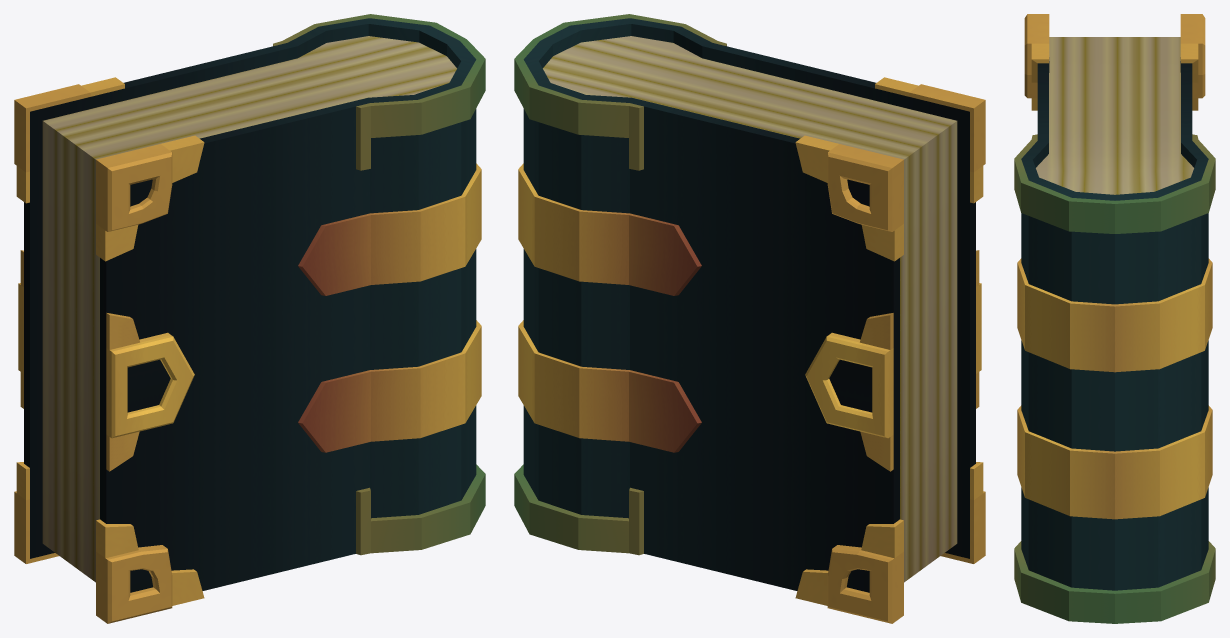
The model's file is Book_4.fbx.
3 renders of one model, left to right at view 1: azimuth 30°, elevation 25°; view 2: azimuth 150°, elevation 25°; view 3: azimuth 270°, elevation 25°, orthographic. The views are drawn at different scales.
Parts seen in each view (by area): view 1: Book_3; view 2: Book_3; view 3: Book_3.
Part boxes in pixels (x1,y1,x2,y2): Book_3: (14, 14, 485, 623); Book_3: (514, 14, 985, 623); Book_3: (1014, 14, 1215, 623).
Bounding box in the file's own units: 29.58 × 31.74 × 13.55.
